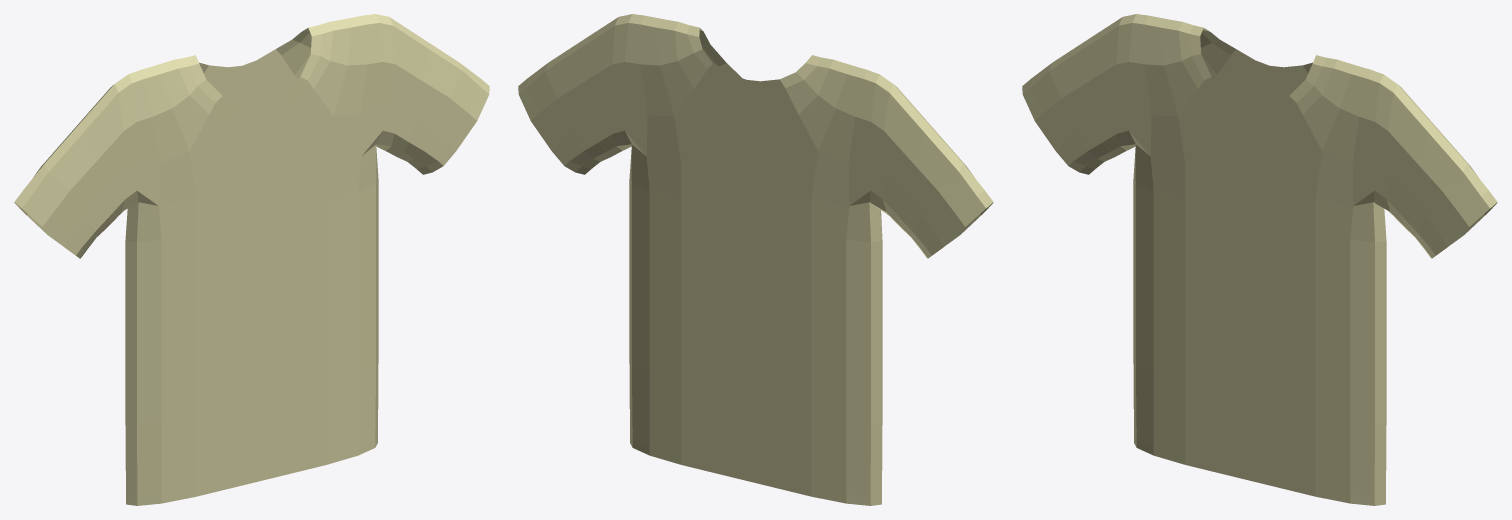
File: UncoloredShirt.fbx
3 views of the same model, side by side, from view 1: azimuth 30°, elevation 25°; view 2: azimuth 150°, elevation 25°; view 3: azimuth 330°, elevation 25° (orthographic).
Visible parts, largest first — view 1: Shirt; view 2: Shirt; view 3: Shirt.
Part boxes in pixels (x1,y1,x2,y2): Shirt: [14, 14, 489, 505]; Shirt: [518, 14, 993, 505]; Shirt: [1022, 14, 1497, 505].
Bounding box in the file's own units: 14.08 × 12.26 × 0.9839.
